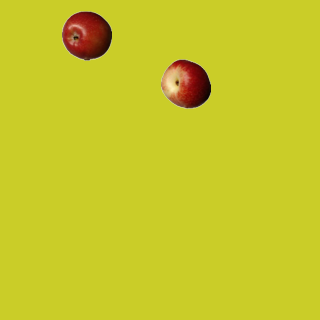Apple Braeburn: (61, 10, 111, 60)
Nectarine: (160, 58, 210, 108)
